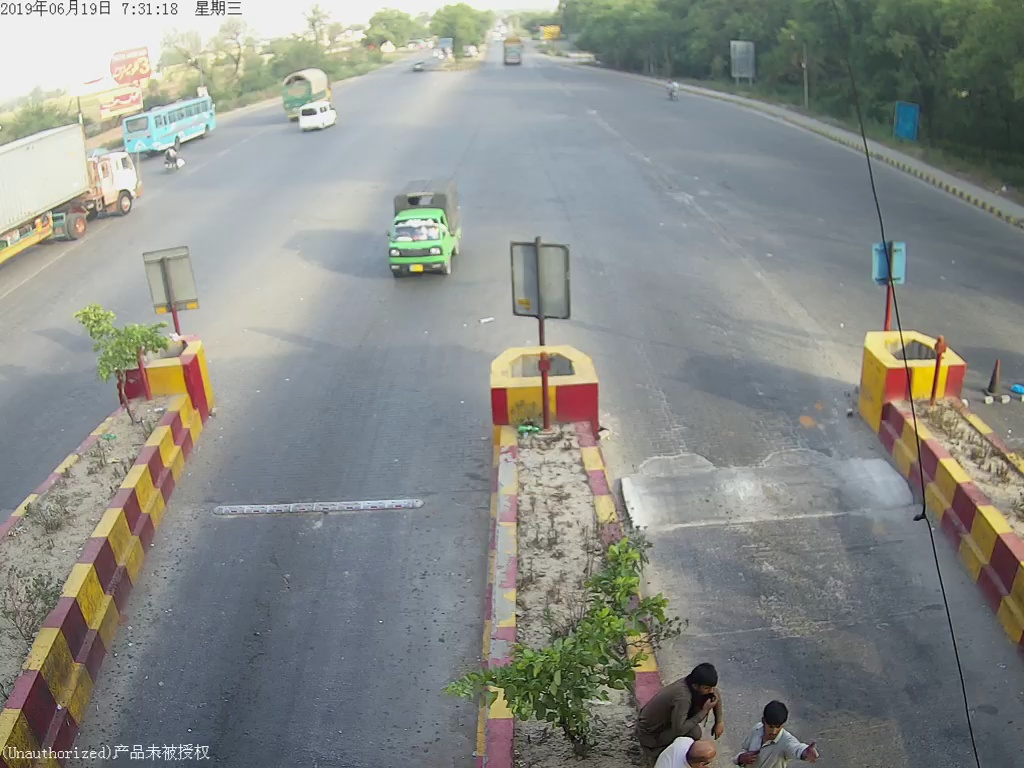Cat-1: (371, 185, 471, 288)
